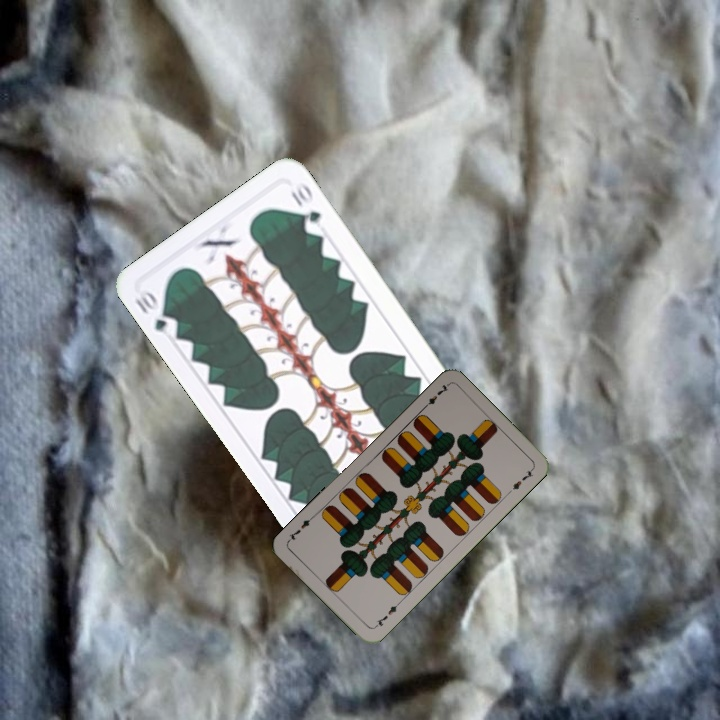E7: (370, 599, 403, 631), (418, 381, 451, 412)
G10: (130, 285, 181, 340)
